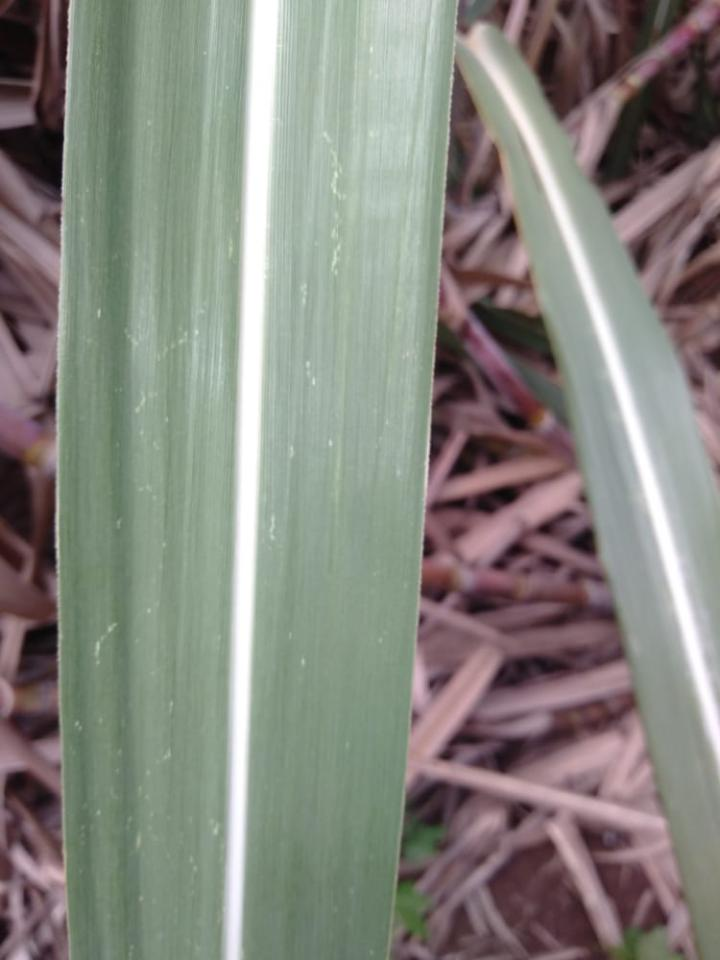Healthy: (58, 0, 457, 959)
